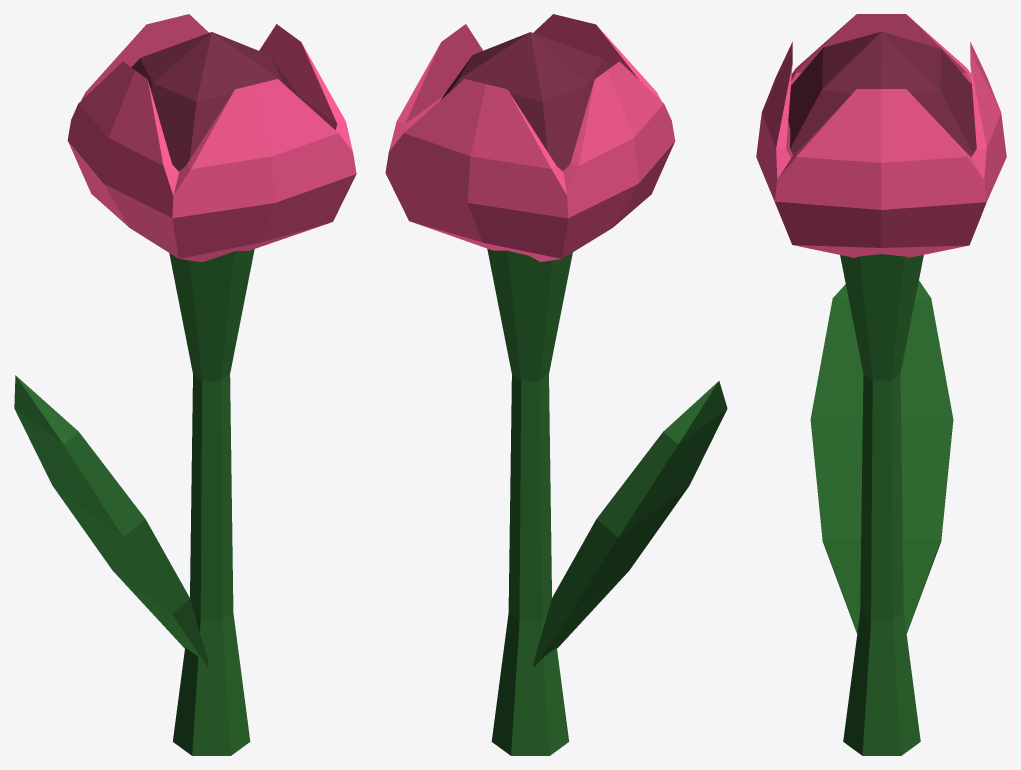
The model's file is Flower_3_Pink.fbx.
The picture shows the model from 3 angles, left to right: view 1: azimuth 30°, elevation 25°; view 2: azimuth 150°, elevation 25°; view 3: azimuth 270°, elevation 25°; orthographic projection.
Visible parts, largest first — view 1: Flower_3_Pink_Part_2, Flower_3_Pink_Part_1, Flower_3_Pink_Part_3; view 2: Flower_3_Pink_Part_2, Flower_3_Pink_Part_1, Flower_3_Pink_Part_3; view 3: Flower_3_Pink_Part_1, Flower_3_Pink_Part_2, Flower_3_Pink_Part_3.
Part boxes in pixels (x1=…): Flower_3_Pink_Part_2: x1=67, y1=14, x2=356, y2=262; Flower_3_Pink_Part_1: x1=14, y1=249, x2=254, y2=755; Flower_3_Pink_Part_3: x1=131, y1=32, x2=299, y2=171; Flower_3_Pink_Part_2: x1=385, y1=14, x2=675, y2=261; Flower_3_Pink_Part_1: x1=487, y1=248, x2=727, y2=755; Flower_3_Pink_Part_3: x1=441, y1=32, x2=610, y2=171; Flower_3_Pink_Part_1: x1=810, y1=254, x2=953, y2=755; Flower_3_Pink_Part_2: x1=756, y1=14, x2=1006, y2=257; Flower_3_Pink_Part_3: x1=788, y1=31, x2=976, y2=156.
Size of the model in its own units: 24.43 by 55 by 17.59.
